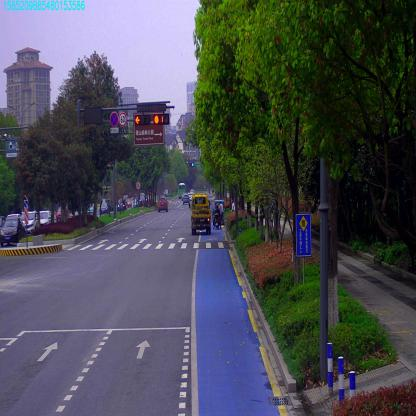traffic-light: (153, 112, 171, 126), (134, 115, 150, 124)
